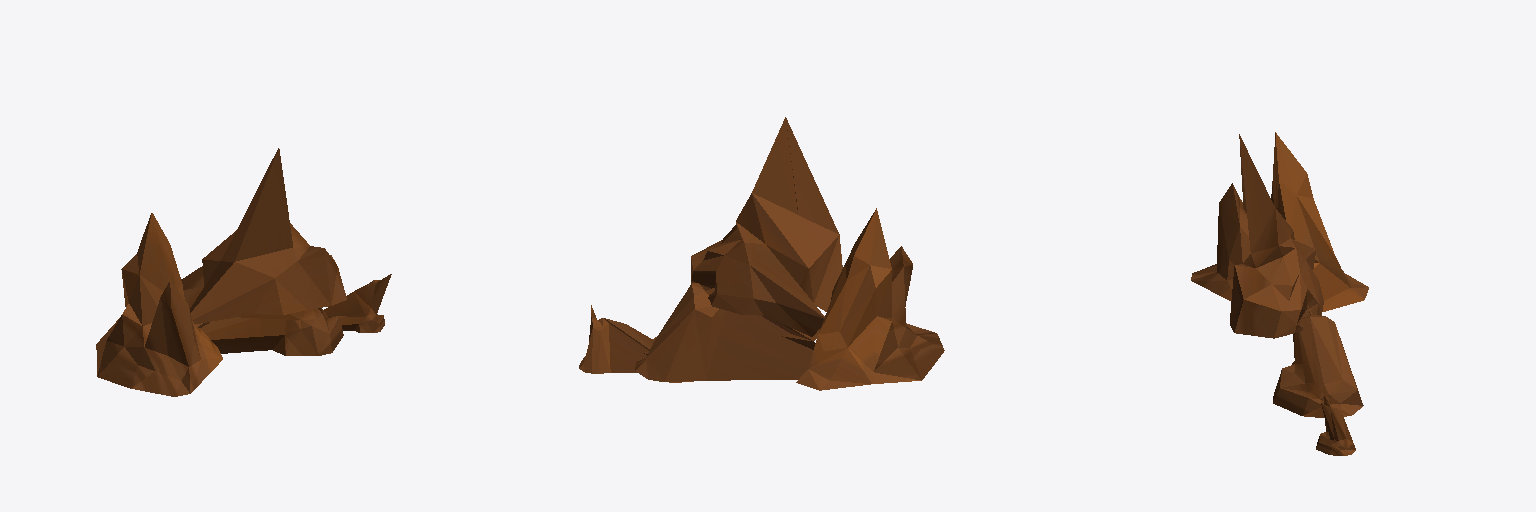
The picture shows the model from 3 angles: view 1: azimuth 30°, elevation 25°; view 2: azimuth 150°, elevation 25°; view 3: azimuth 270°, elevation 25°; orthographic projection.
Visible parts, largest first — view 1: BigMountain, LilMountain, FatMountain, FatMountain.001; view 2: BigMountain, LilMountain, FatMountain, FatMountain.001; view 3: BigMountain, LilMountain, FatMountain, FatMountain.001.
Part boxes in pixels (bbox=[...]): BigMountain: bbox=[181, 148, 346, 323]; LilMountain: bbox=[96, 213, 222, 396]; FatMountain: bbox=[195, 308, 343, 355]; FatMountain.001: bbox=[324, 274, 391, 332]; BigMountain: bbox=[691, 117, 842, 336]; LilMountain: bbox=[796, 208, 944, 390]; FatMountain: bbox=[635, 283, 819, 382]; FatMountain.001: bbox=[579, 305, 653, 373]; BigMountain: bbox=[1230, 134, 1323, 338]; LilMountain: bbox=[1191, 132, 1368, 311]; FatMountain: bbox=[1273, 306, 1363, 417]; FatMountain.001: bbox=[1316, 393, 1355, 455].
Size of the model in its own units: 58.26 by 44.05 by 28.79.
1 materials, 1 textured.